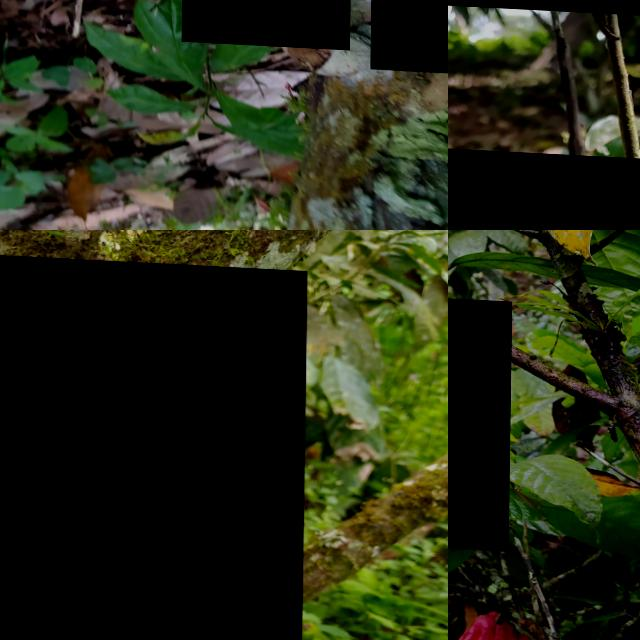Monilia: (448, 140, 640, 230), (448, 290, 512, 546)
Sana: (0, 253, 307, 640)
